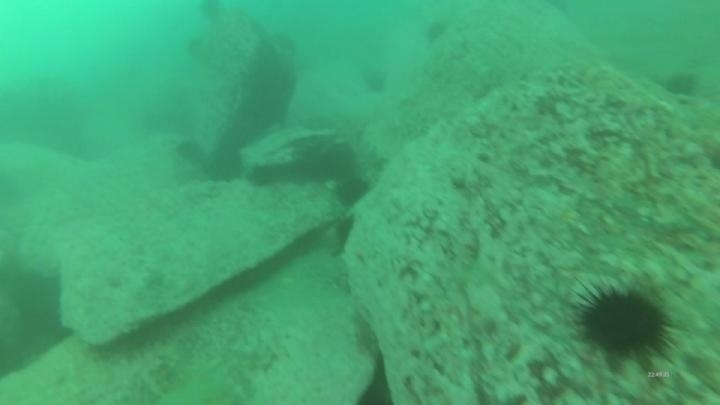echinus: (573, 278, 677, 367), (317, 142, 359, 183), (204, 146, 246, 185), (334, 175, 371, 209), (330, 212, 358, 255), (662, 70, 700, 100), (246, 161, 280, 190), (360, 67, 390, 97), (173, 137, 205, 165), (422, 18, 450, 46), (179, 34, 209, 59), (197, 1, 227, 25)
